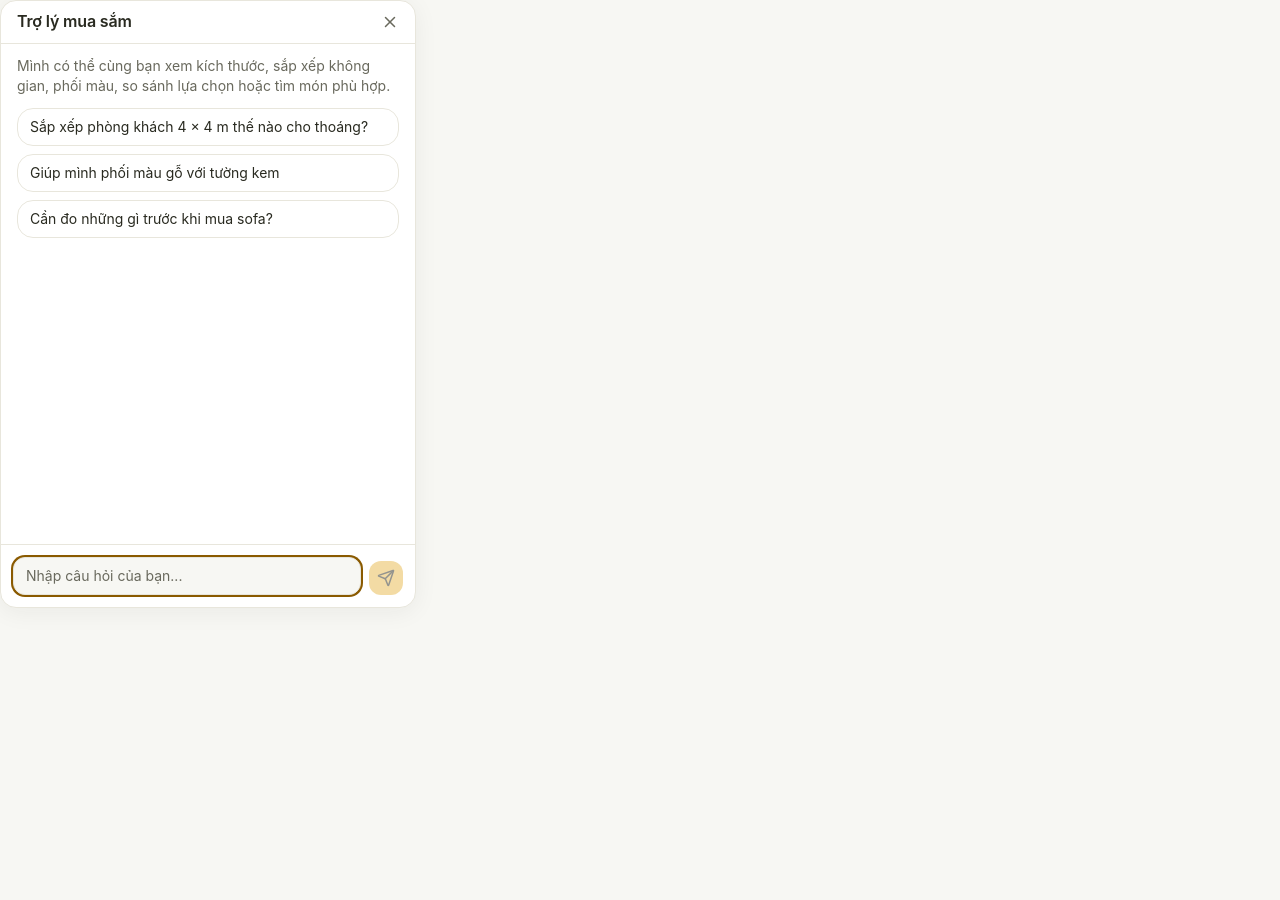
it: ChatPanel › sends a message and renders the reply with a linked product source
Type "Ghế nào cho phòng nhỏ?" into the field labelled "Nhập câu hỏi". click: (187, 576)
box: [13,557,361,595]
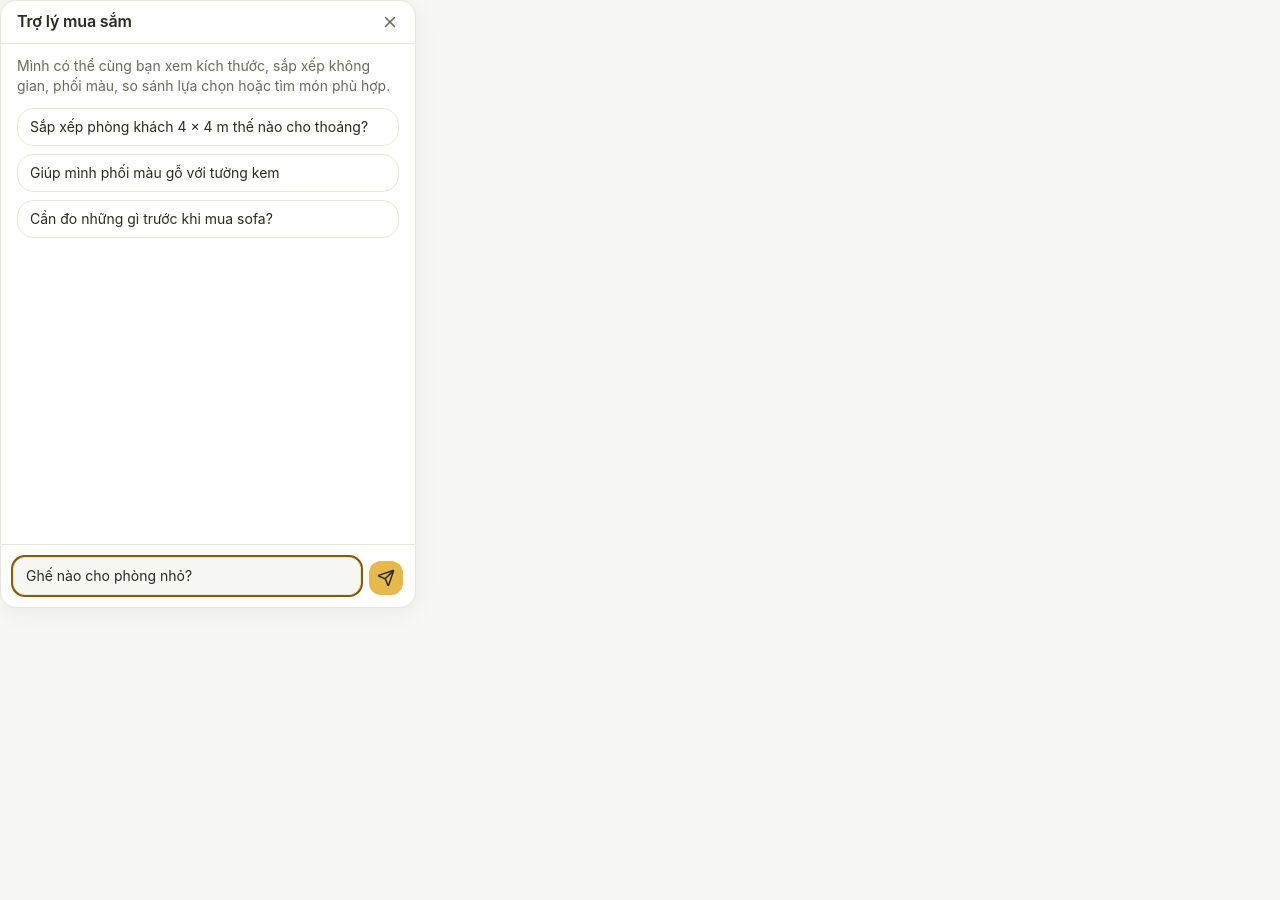
Click the button named "Gửi". click: (386, 578)
box: [369,561,403,595]
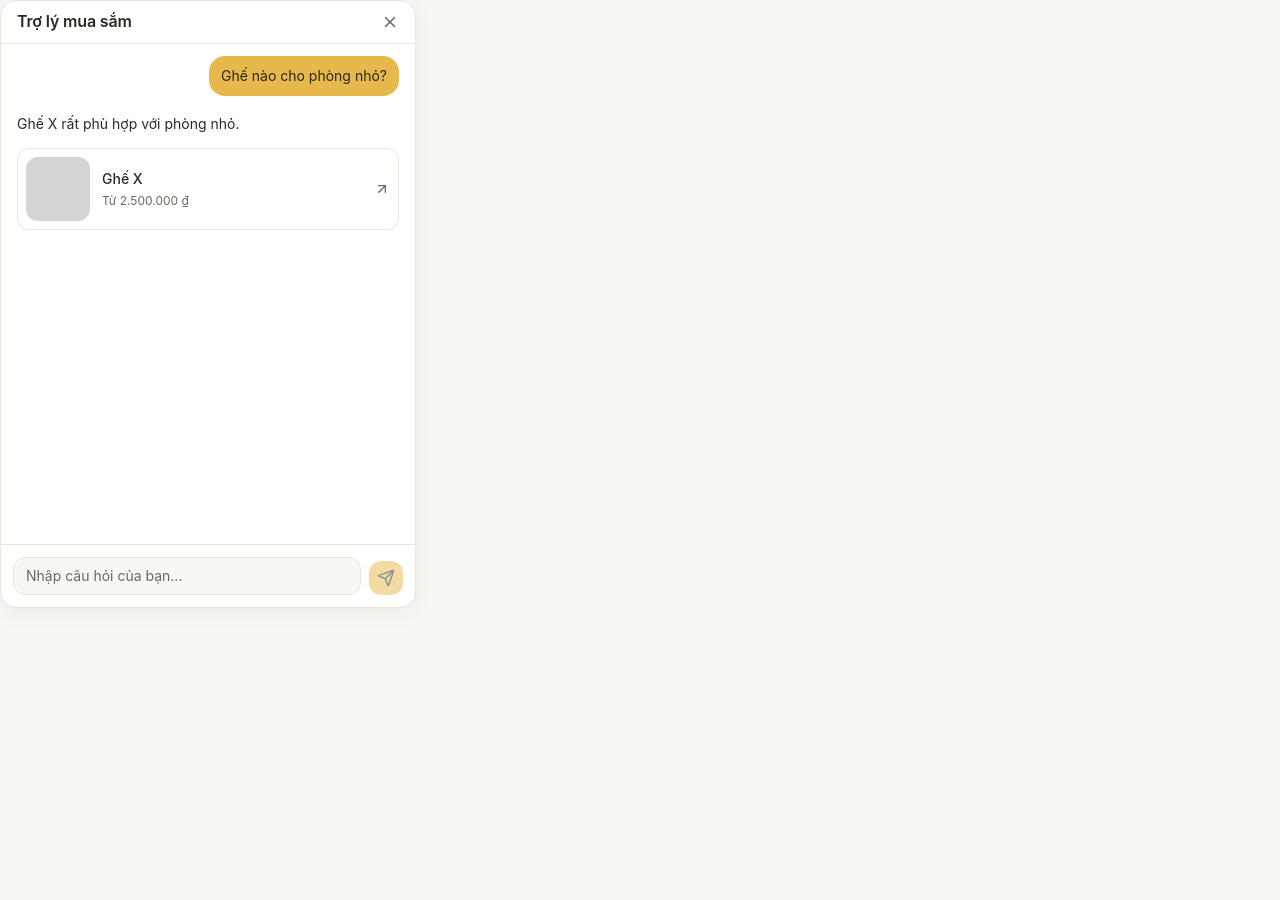
Now the text "Ghế X rất phù hợp với phòng nhỏ." is shown, box [17,115,240,132]
Now the text "Ghế nào cho phòng nhỏ?" is shown, box [221,64,387,88]
Now the text "Từ 2.500.000 ₫" is shown, box [102,193,189,208]
